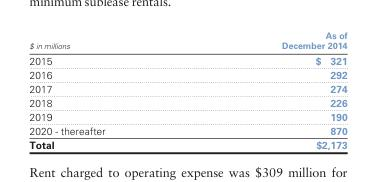table: (28, 29, 346, 150)
table column: (28, 29, 192, 150), (192, 29, 346, 150)
table column header: (28, 29, 346, 52)
table row: (28, 29, 346, 52), (28, 52, 346, 67), (28, 67, 346, 81), (28, 81, 346, 95), (28, 95, 346, 109), (28, 109, 346, 123), (28, 123, 346, 137), (28, 137, 346, 150)
